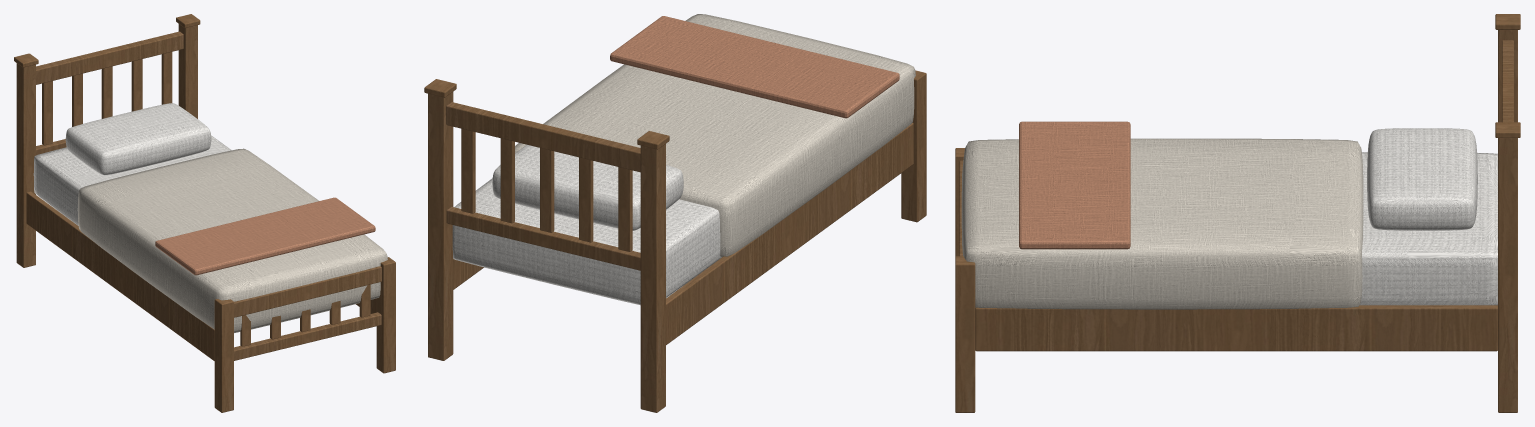
File: oak_mission_bed_twin_procedural.gltf
3 views of the same model, side by side, from view 1: azimuth 30°, elevation 25°; view 2: azimuth 150°, elevation 25°; view 3: azimuth 270°, elevation 25° (orthographic). The views are drawn at different scales.
Visible parts, largest first — view 1: duvet, throw, pillow, side_rail, mattress, head_post, rail_top, rail_top.001, foot_post, rail_low.001, foot_post.001, head_post.001 (+5 smaller); view 2: duvet, throw, mattress, side_rail, head_post, head_post.001, pillow, rail_top, rail_low, foot_post, slat.003, slat (+4 smaller); view 3: duvet, side_rail.001, throw, mattress, pillow, head_post.001, foot_post.001, rail_top, head_post, foot_post.
Part boxes in pixels (box(x1,y1,x2,y2)): duvet: box(77, 148, 387, 332); throw: box(155, 197, 375, 275); pillow: box(65, 103, 211, 175); side_rail: box(26, 191, 214, 360); mattress: box(33, 135, 231, 225); head_post: box(16, 63, 35, 267); rail_top: box(36, 31, 183, 84); rail_top.001: box(234, 266, 381, 317); foot_post: box(214, 299, 233, 412); rail_low.001: box(234, 312, 381, 360); foot_post.001: box(376, 257, 395, 373); head_post.001: box(178, 24, 197, 118); duvet: box(515, 14, 915, 258); throw: box(610, 16, 899, 118); mattress: box(452, 178, 720, 305); side_rail: box(666, 123, 913, 344); head_post: box(640, 144, 665, 412); head_post.001: box(428, 92, 453, 360); pillow: box(492, 144, 683, 230); rail_top: box(446, 102, 640, 172); rail_low: box(446, 207, 640, 270); foot_post: box(901, 70, 926, 222); slat.003: box(500, 138, 514, 223); slat: box(618, 167, 632, 251); duvet: box(961, 138, 1363, 309); side_rail.001: box(975, 305, 1497, 351); throw: box(1019, 121, 1130, 249); mattress: box(1360, 152, 1497, 305); pillow: box(1367, 128, 1477, 230); head_post.001: box(1498, 138, 1517, 412); foot_post.001: box(955, 256, 975, 412); rail_top: box(1502, 40, 1513, 122); head_post: box(1498, 30, 1517, 122); foot_post: box(955, 148, 964, 256).
Bounding box in the file's own units: 1.08 × 1.17 × 2.13.
4 materials, 4 textured.
